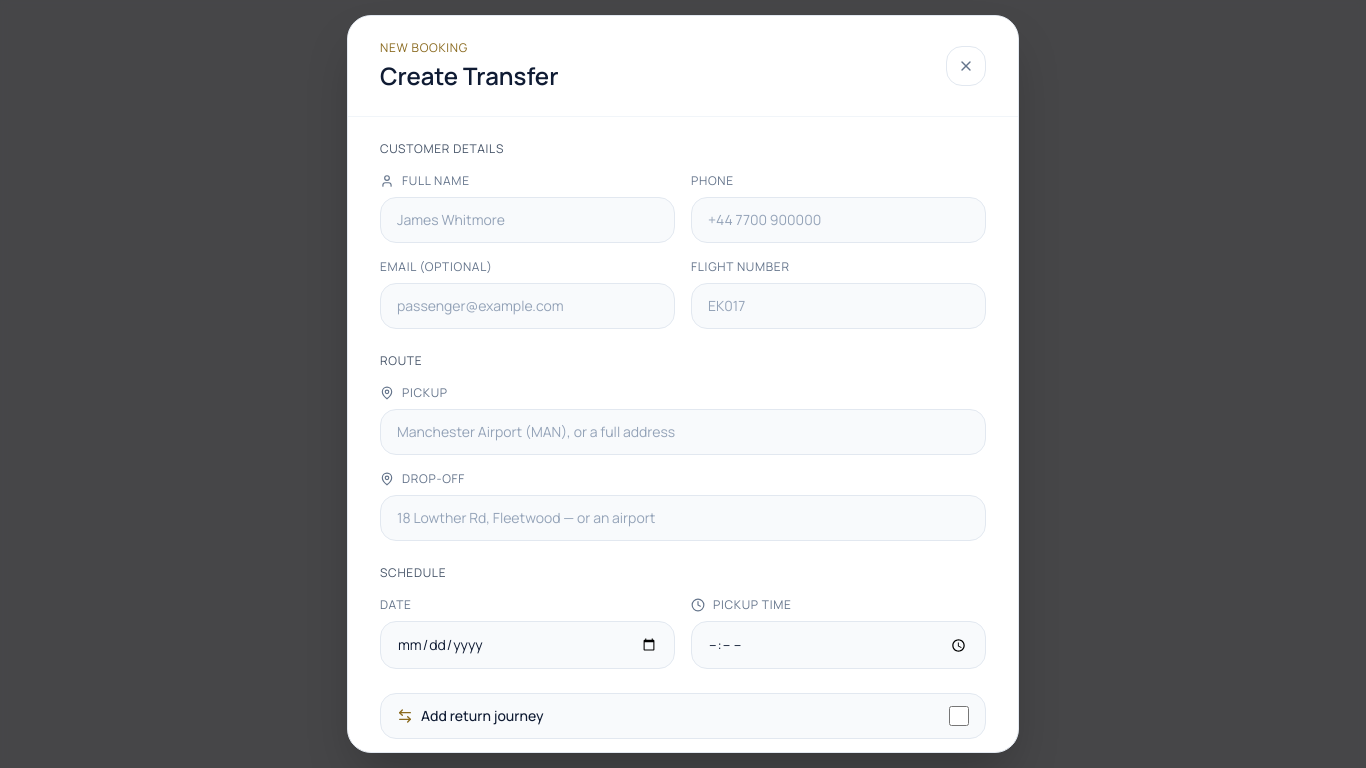
Test case: BookingModal — suggested price › uses the drop-off when only that end is a listed place
This screenshot has width=1366, height=768.
Type "Liverpool Airport" into the field with placeholder "18 Lowther Rd, Fleetwood — or an airport".
click(683, 518); type("Liverpool Airport")  # box [380,495,986,541]
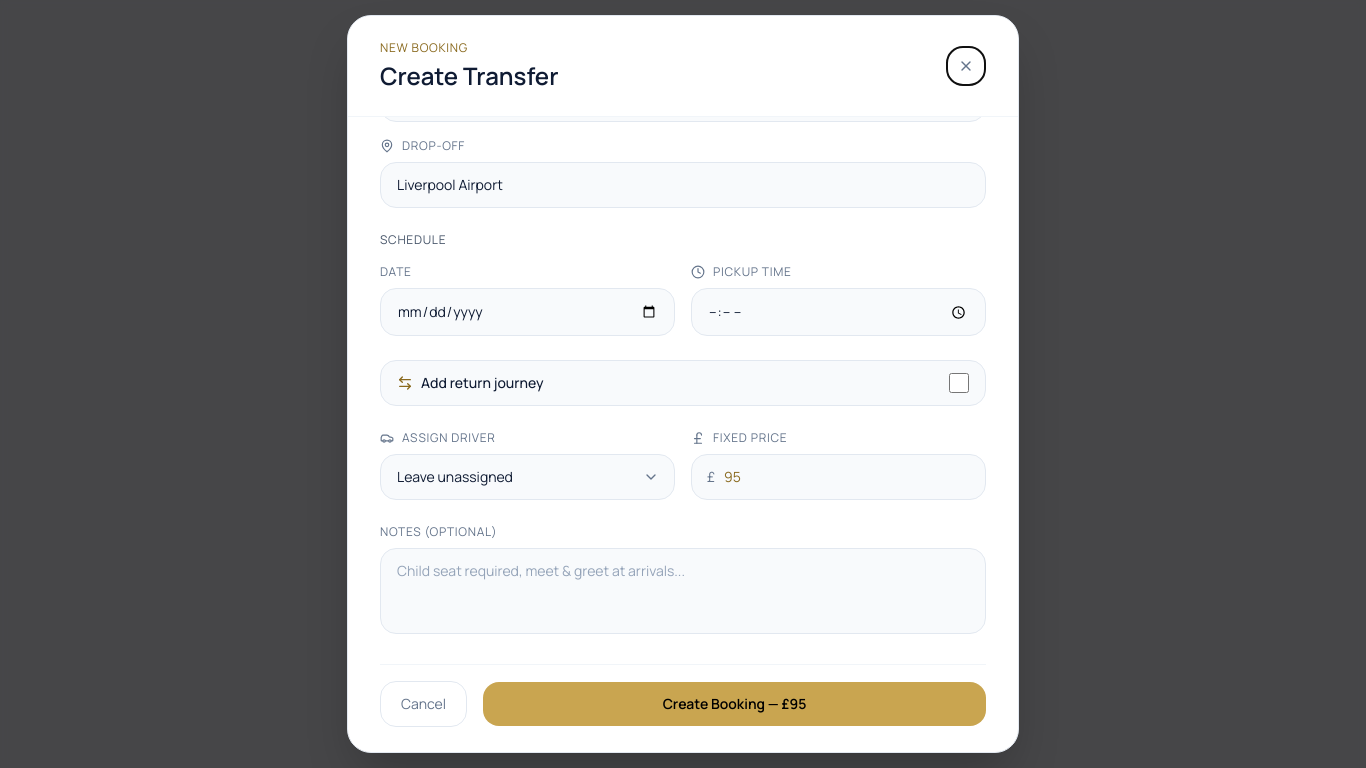
Check: the number field with placeholder "0" holds "95", box [691,454,986,500]
